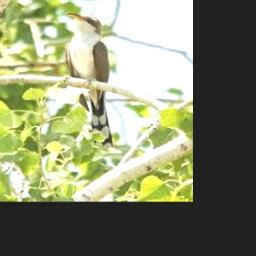Cuckoo: (64, 13, 113, 150)
